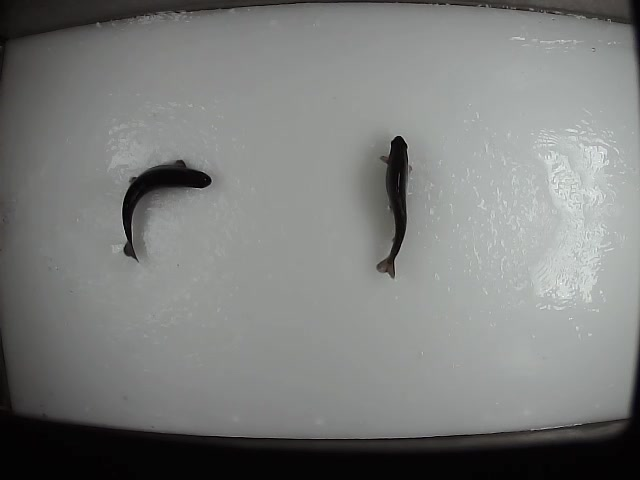fish: (120, 156, 213, 263), (374, 133, 414, 280)
